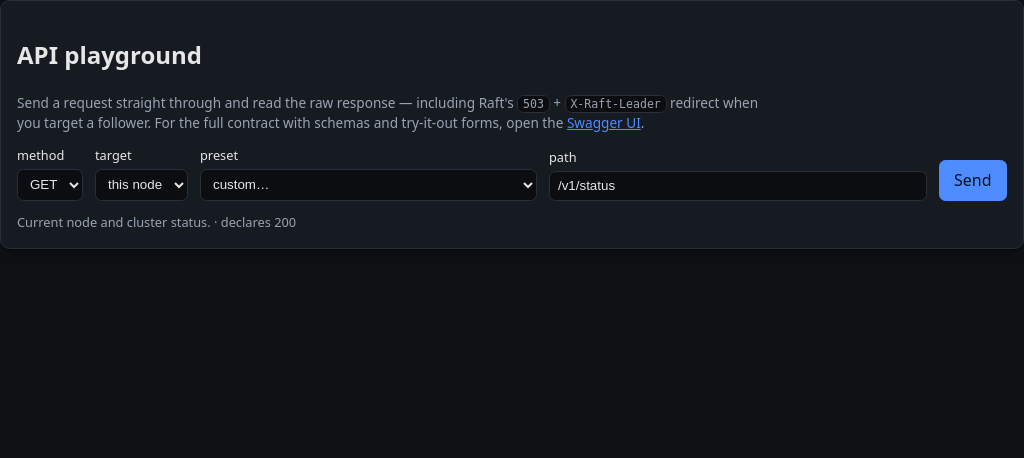
Scenario: Playground › sends a GET and shows the status and pretty-printed body
Click the button "Send": [973, 180] box [939,160,1007,201]
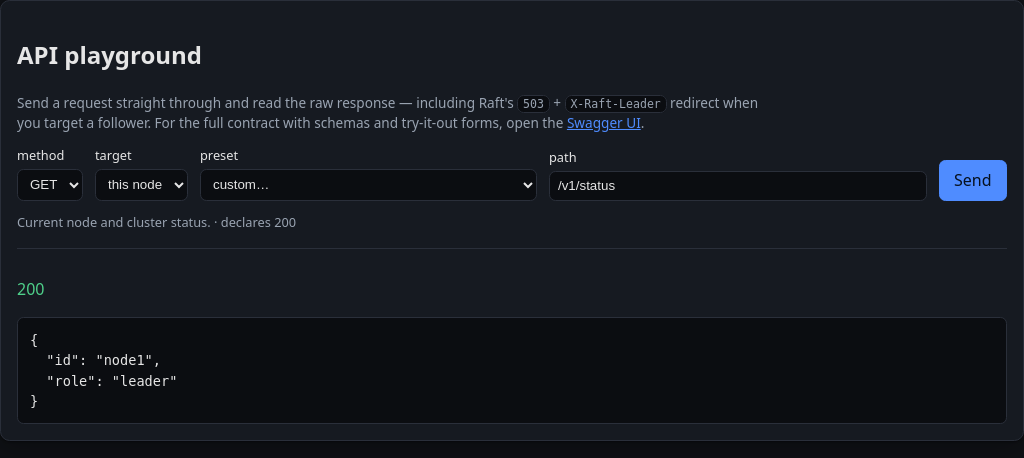
Now the element with test id "playground-status" reads "200", box [17,278,44,300]
Now the text with test id "playground-body" shows "\"id\": \"node1\"", box [30,332,177,409]
